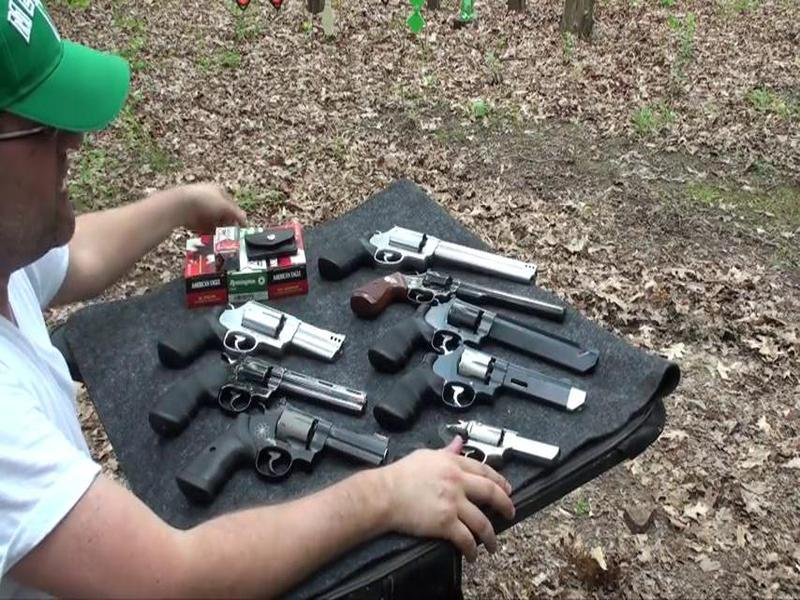Revolver: (377, 344, 586, 429)
